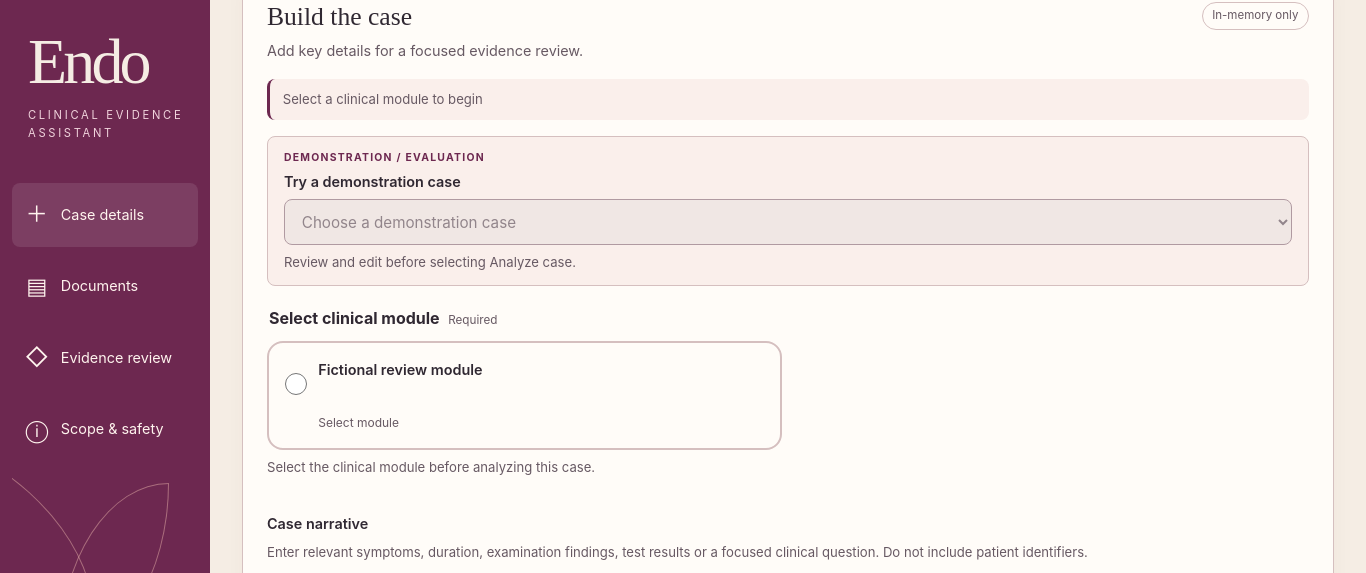
Test: clinician workflow with mocked HTTP only › labels the backend synthetic mode and AgentResponse outcome persistently
The width and height of the screenshot is (1366, 573).
(page scrolled)
Click the radio button showing "FictionalModule": {"x": 296, "y": 384} [285, 361, 307, 407]
(page scrolled)
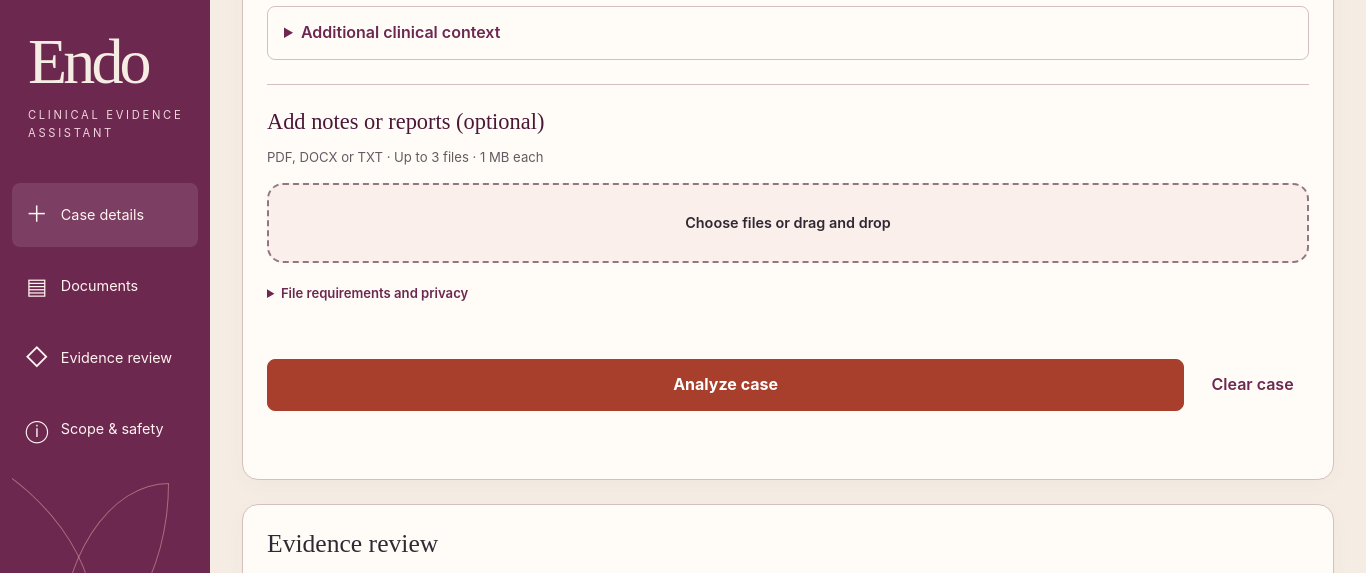
Click the button "Analyze case": {"x": 726, "y": 385} [267, 359, 1184, 411]
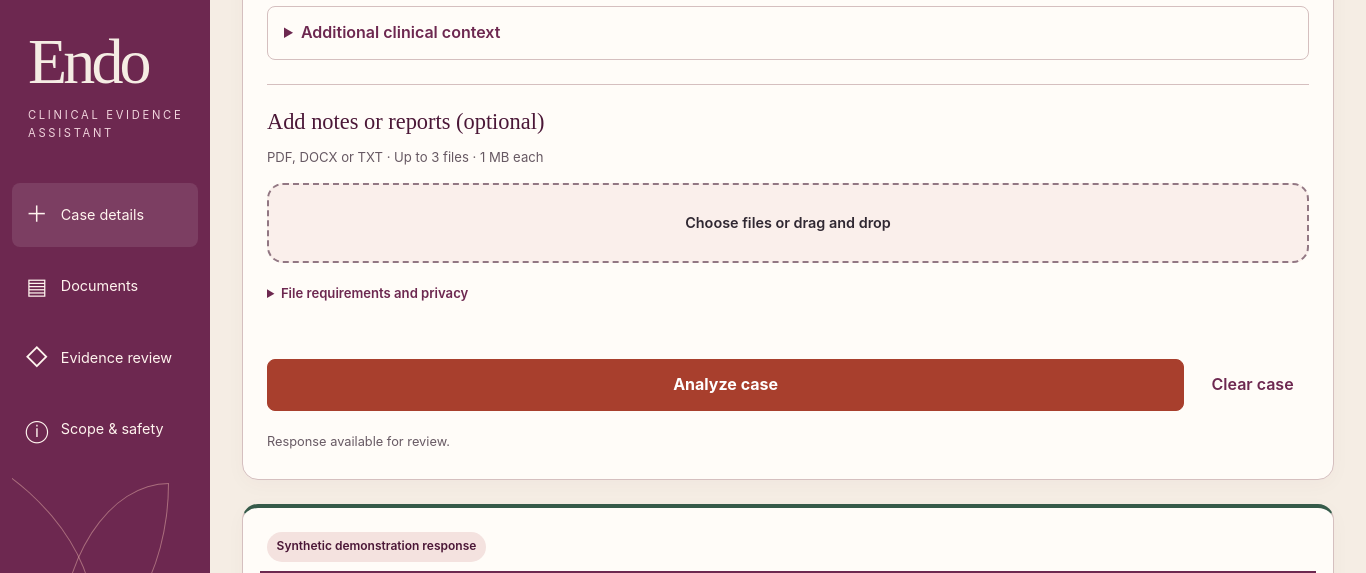
Now the text "Synthetic demonstration response" is shown, box [267, 532, 486, 562]
Click the button "Clear case": {"x": 1253, "y": 385} [1196, 359, 1309, 411]
(page scrolled)
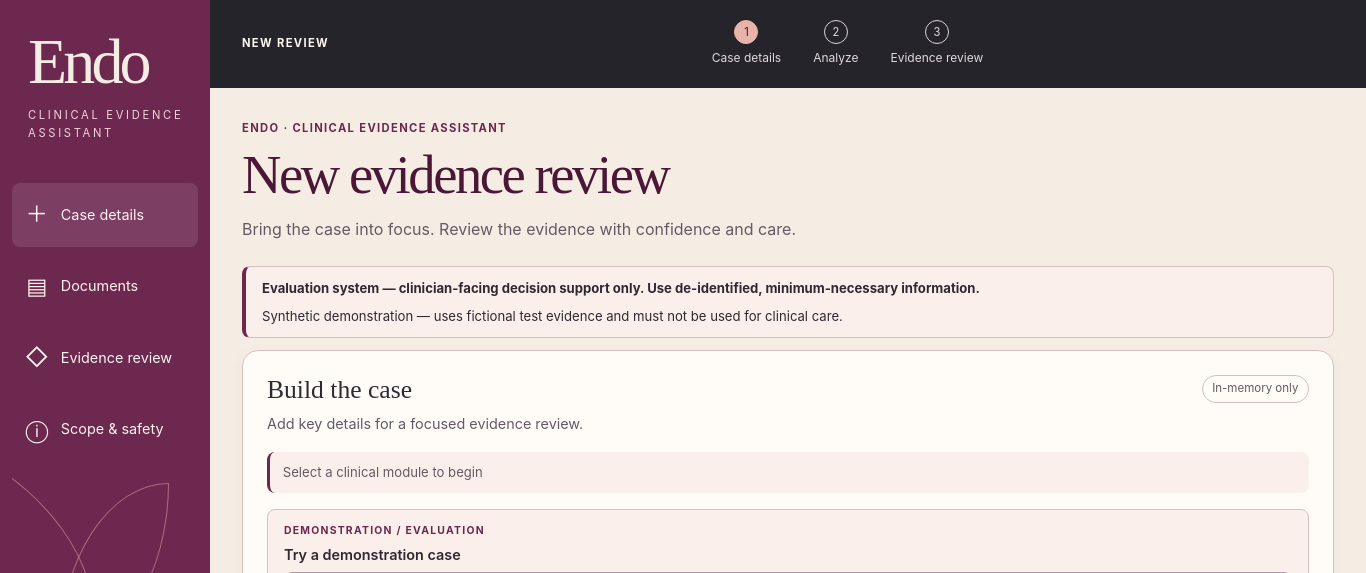
Expected: the text "Synthetic demonstration — uses fictional test evidence and must not be used for clinical care." is shown, [262, 308, 843, 324]
Now the text "Synthetic demonstration response" is gone
